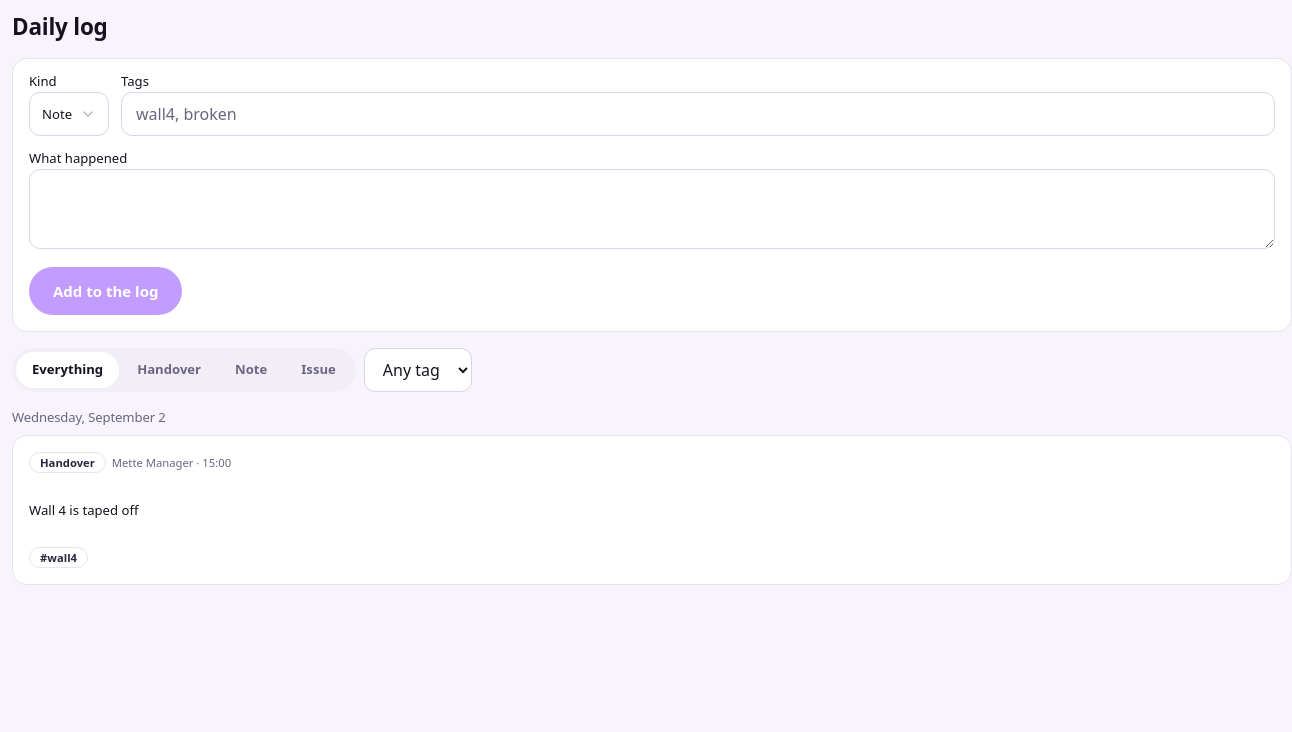
Test case: the daily log › says what is missing instead of a dead button
Expected: the text "Write what happened" is not shown
Step 1. Type "x" into the text box labelled "What happened" → (652, 209), box top-left (29, 169), bottom-right (1275, 249)
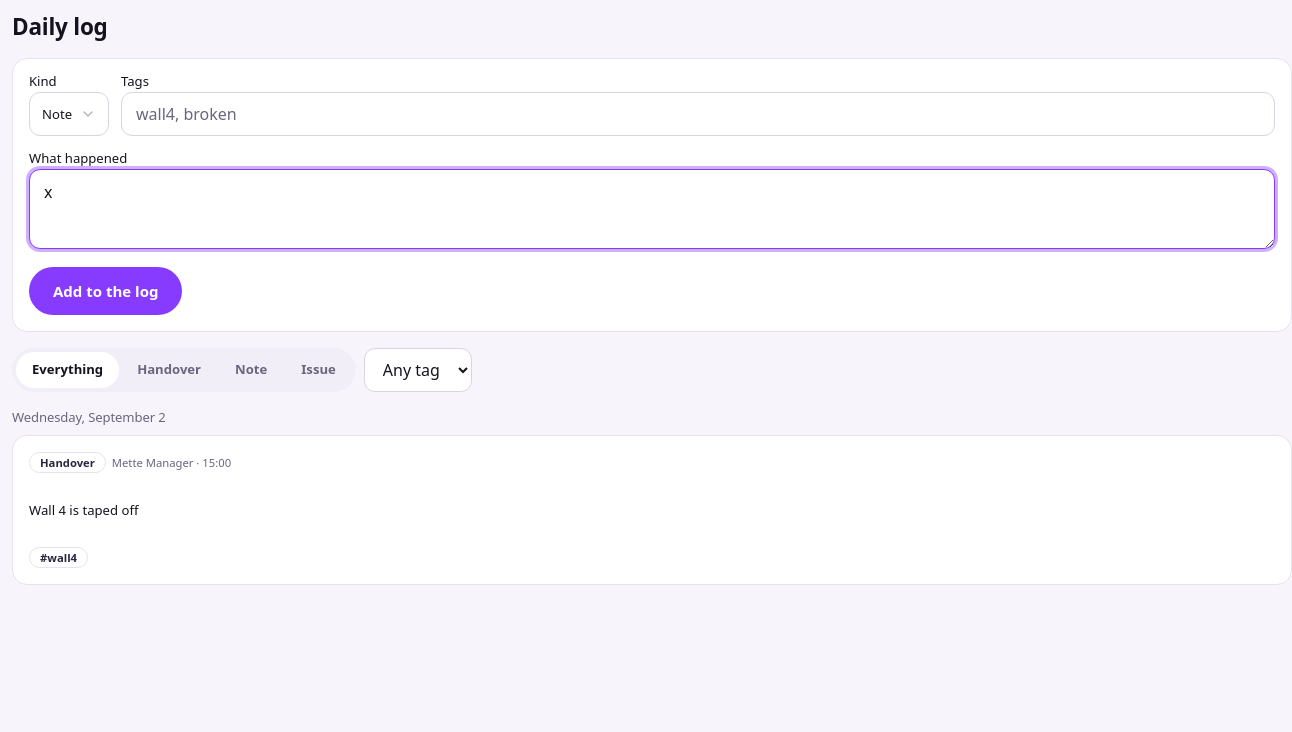
Step 2. Clear the text box labelled "What happened" → (652, 209), box top-left (29, 169), bottom-right (1275, 249)
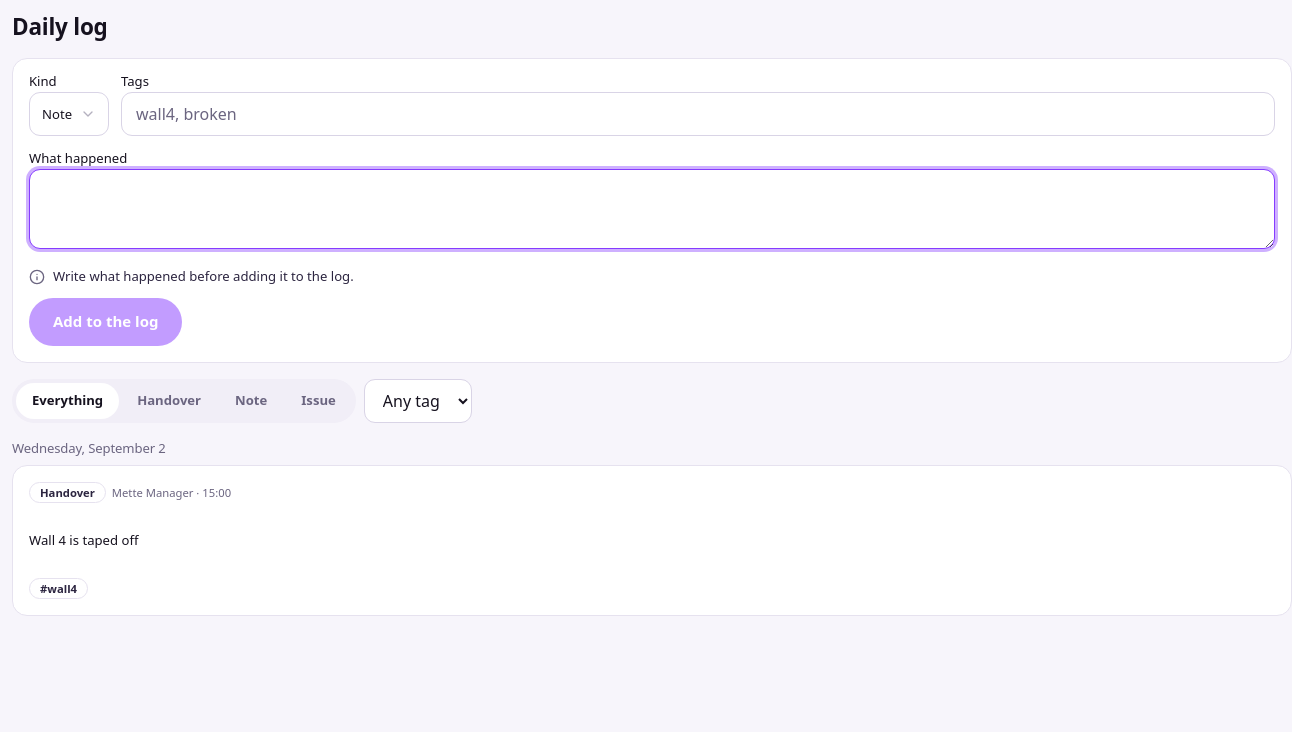
Now the list item "Write what happened before adding it to the log." is shown, box top-left (29, 267), bottom-right (354, 285)
Now the button "Add to the log" is disabled, box top-left (29, 298), bottom-right (182, 346)
